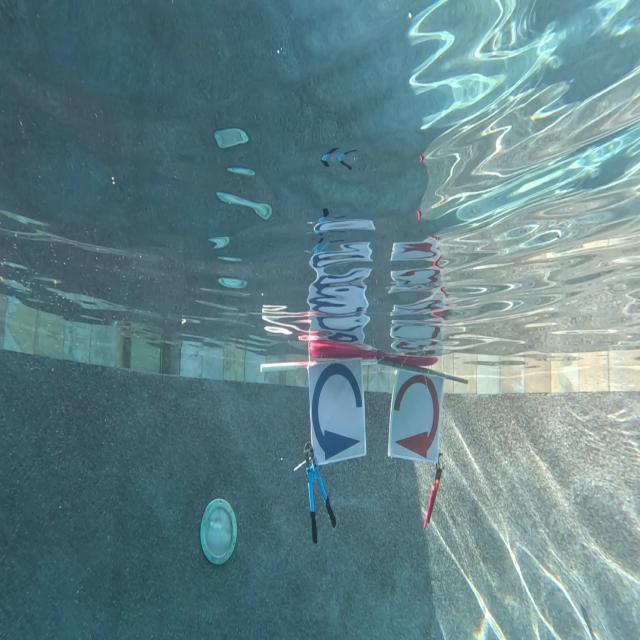blue_side: (312, 368, 366, 460)
red_side: (388, 372, 439, 460)
